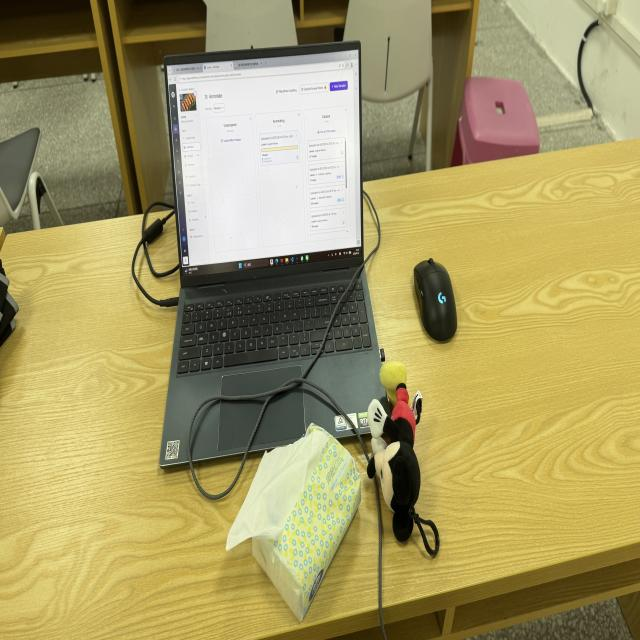mickey: (368, 362, 439, 555)
tissue: (227, 425, 360, 620)
